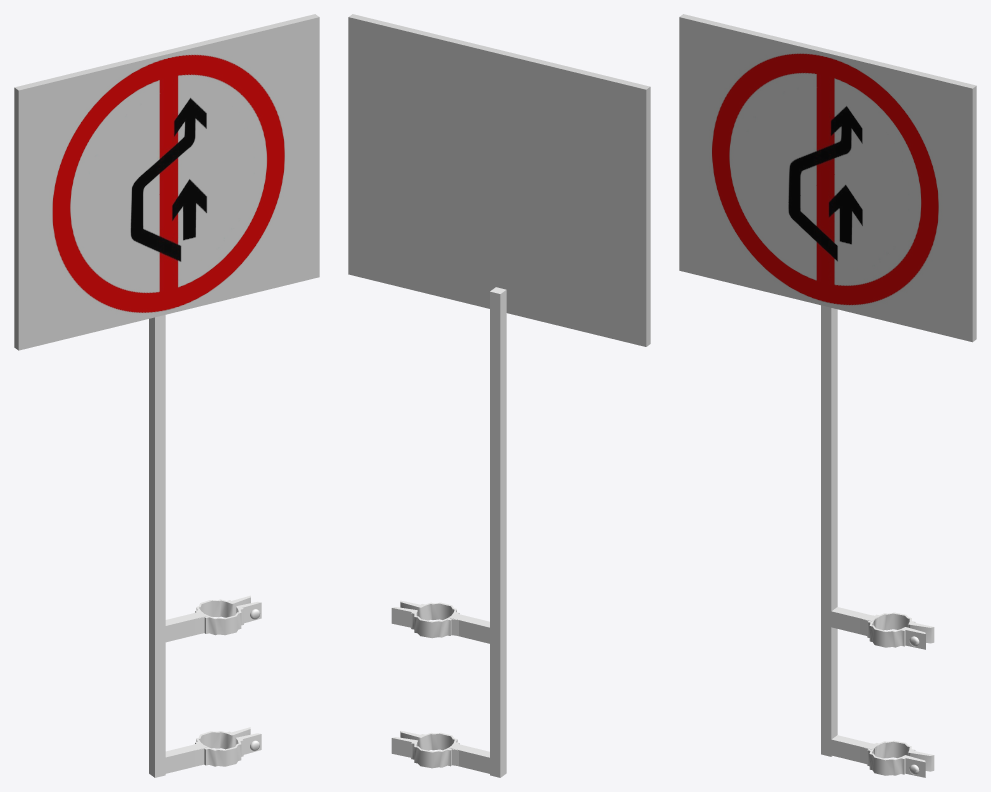
The model's file is 禁止超车-S.glb.
3 renders of one model, left to right at view 1: azimuth 30°, elevation 25°; view 2: azimuth 150°, elevation 25°; view 3: azimuth 330°, elevation 25°, orthographic. The views are drawn at different scales.
Parts seen in each view (by area): view 1: 立方体.1-材质.4, 立方体, 立方体.1-材质.2, pCube31, pCube20, 立方体.1, 立方体.2; view 2: 立方体.1-材质.2, 立方体, pCube20, pCube31, 立方体.2, 立方体.1; view 3: 立方体.1-材质.4, 立方体, 立方体.1-材质.2, pCube31, pCube20, 立方体.2, 立方体.1.
Part boxes in pixels (box(x1,y1,x2,y2)): 立方体.1-材质.4: box(18, 17, 319, 350); 立方体: box(149, 315, 165, 777); 立方体.1-材质.2: box(14, 14, 318, 350); pCube31: box(194, 595, 261, 635); pCube20: box(194, 727, 261, 766); 立方体.1: box(165, 611, 206, 642); 立方体.2: box(165, 743, 206, 773); 立方体.1-材质.2: box(348, 14, 650, 346); 立方体: box(490, 287, 506, 777); pCube20: box(391, 730, 459, 768); pCube31: box(391, 600, 459, 638); 立方体.2: box(449, 743, 491, 774); 立方体.1: box(449, 613, 491, 644); 立方体.1-材质.4: box(679, 17, 972, 342); 立方体: box(821, 305, 837, 756); 立方体.1-材质.2: box(679, 14, 976, 341); pCube31: box(860, 612, 934, 649); pCube20: box(860, 740, 934, 777); 立方体.2: box(831, 735, 877, 762); 立方体.1: box(831, 607, 877, 634).
Size of the model in its own units: 7.01 by 16.13 by 0.9508.
Materials: 4 (1 with a texture image).
